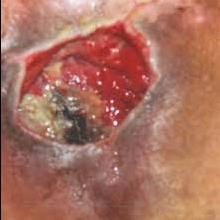Stage3: (5, 6, 176, 180)
